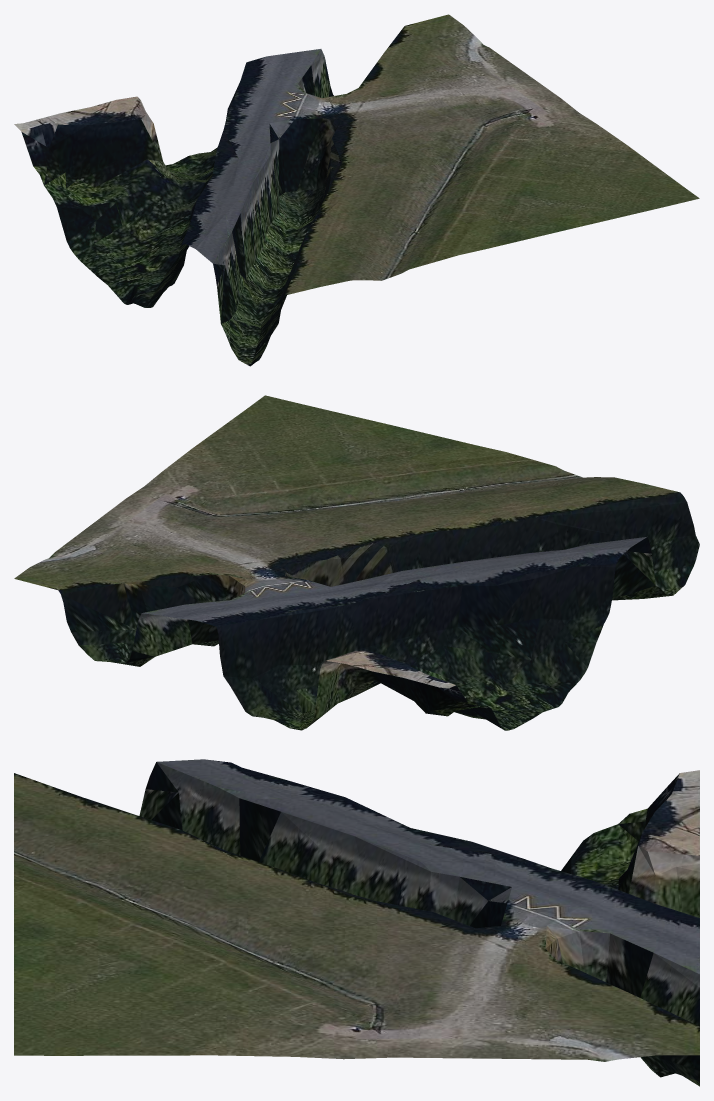
File: map_15_8180_13789.dae
3 views of the same model, one above another, from view 1: azimuth 30°, elevation 25°; view 2: azimuth 150°, elevation 25°; view 3: azimuth 270°, elevation 25° (orthographic). The views are drawn at different scales.
Visible parts, largest first — view 1: Ter0; view 2: Ter0; view 3: Ter0.
Boxes of the visible parts, x1,y1,x2,y2 form: Ter0: (14, 14, 699, 366); Ter0: (14, 395, 699, 730); Ter0: (14, 759, 699, 1086).
Bounding box in the file's own units: 63.88 × 63.88 × 15.01.
Materials: 4 (4 with a texture image).
